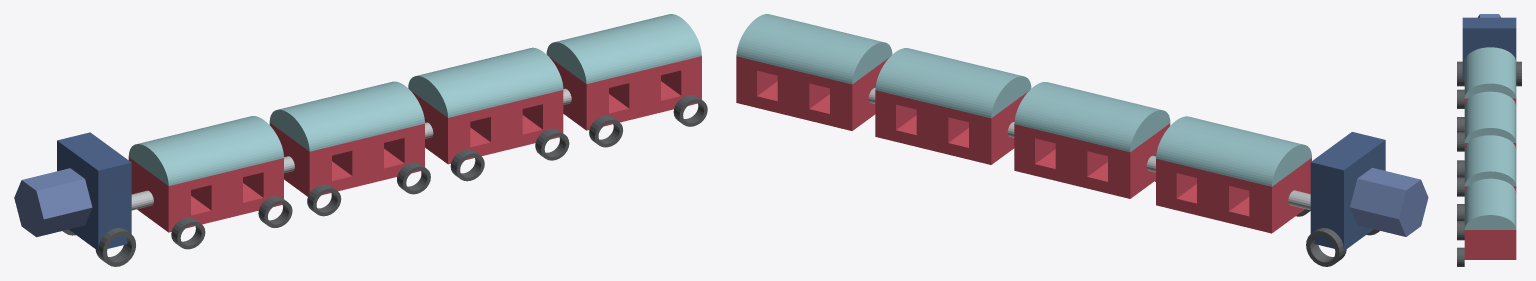
File: Train.glb
The picture shows the model from 3 angles, left to right: view 1: azimuth 30°, elevation 25°; view 2: azimuth 150°, elevation 25°; view 3: azimuth 270°, elevation 25°; orthographic projection. The views are drawn at different scales.
Parts seen in each view (by area): view 1: Mesh_Mesh_head_geo.001_lambert2SG.001; view 2: Mesh_Mesh_head_geo.001_lambert2SG.001; view 3: Mesh_Mesh_head_geo.001_lambert2SG.001.
Part boxes in pixels (bbox=[...]): Mesh_Mesh_head_geo.001_lambert2SG.001: bbox=[14, 14, 707, 266]; Mesh_Mesh_head_geo.001_lambert2SG.001: bbox=[736, 14, 1428, 266]; Mesh_Mesh_head_geo.001_lambert2SG.001: bbox=[1457, 14, 1521, 266].
Bounding box in the file's own units: 255 × 36 × 34.
